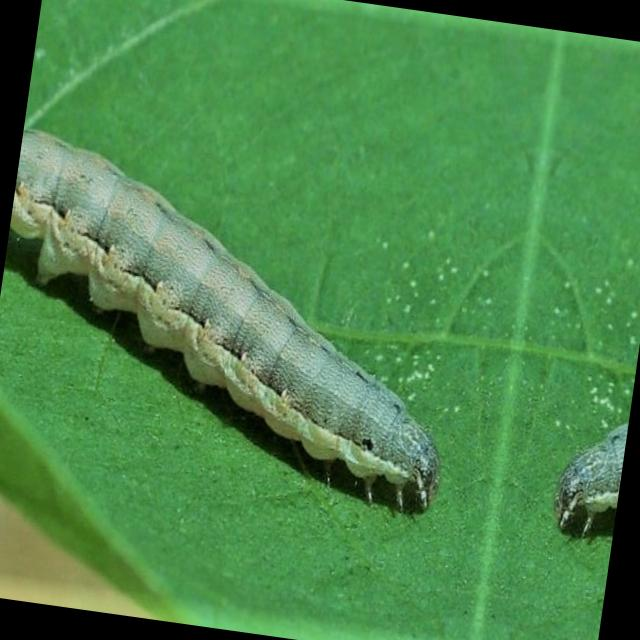Armyworm: (1, 83, 510, 585), (531, 407, 631, 551)
